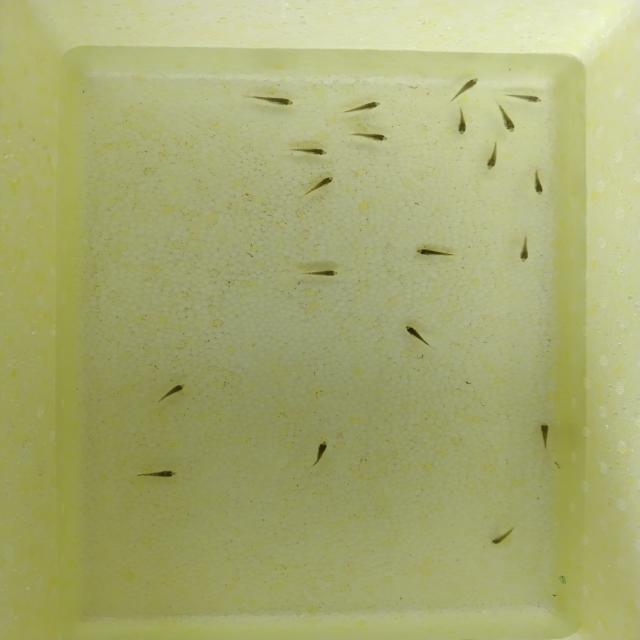fingerling: (296, 174, 338, 201), (446, 73, 482, 104), (403, 323, 438, 352), (241, 91, 297, 109), (487, 523, 524, 548), (153, 382, 190, 405), (306, 440, 334, 468), (335, 100, 387, 115), (342, 130, 394, 144), (281, 144, 331, 158), (412, 246, 461, 260), (495, 108, 520, 135), (482, 140, 503, 172), (534, 420, 555, 452), (514, 232, 534, 265), (296, 267, 345, 280), (500, 91, 545, 105), (528, 166, 548, 197), (133, 468, 183, 480), (454, 110, 469, 138)
